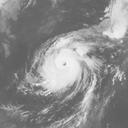cyclone: (31, 32, 91, 97)
